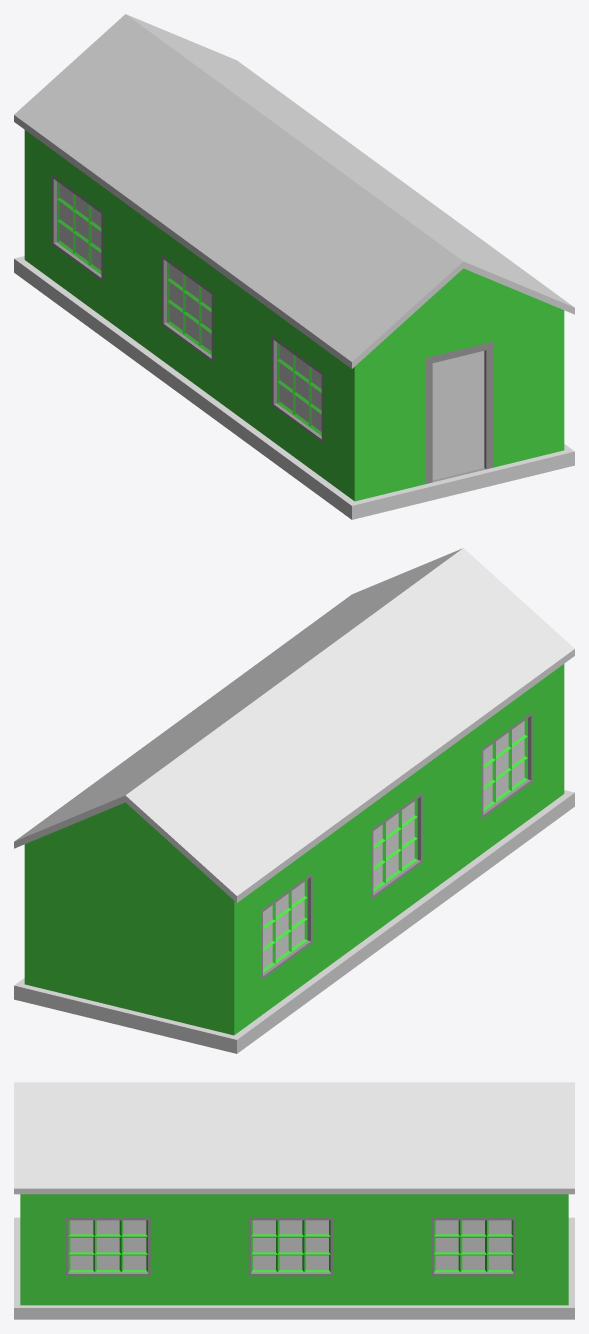
The model's file is Church 2.fbx.
The picture shows the model from 3 angles, top to bottom: view 1: azimuth 30°, elevation 25°; view 2: azimuth 150°, elevation 25°; view 3: azimuth 270°, elevation 25°; orthographic projection. The views are drawn at different scales.
Parts seen in each view (by area): view 1: building_003; view 2: building_003; view 3: building_003.
Part boxes in pixels (x1,y1,x2,y2): building_003: (14, 14, 574, 519); building_003: (14, 548, 574, 1053); building_003: (14, 1082, 574, 1319).
Bounding box in the file's own units: 333 × 330 × 874.
